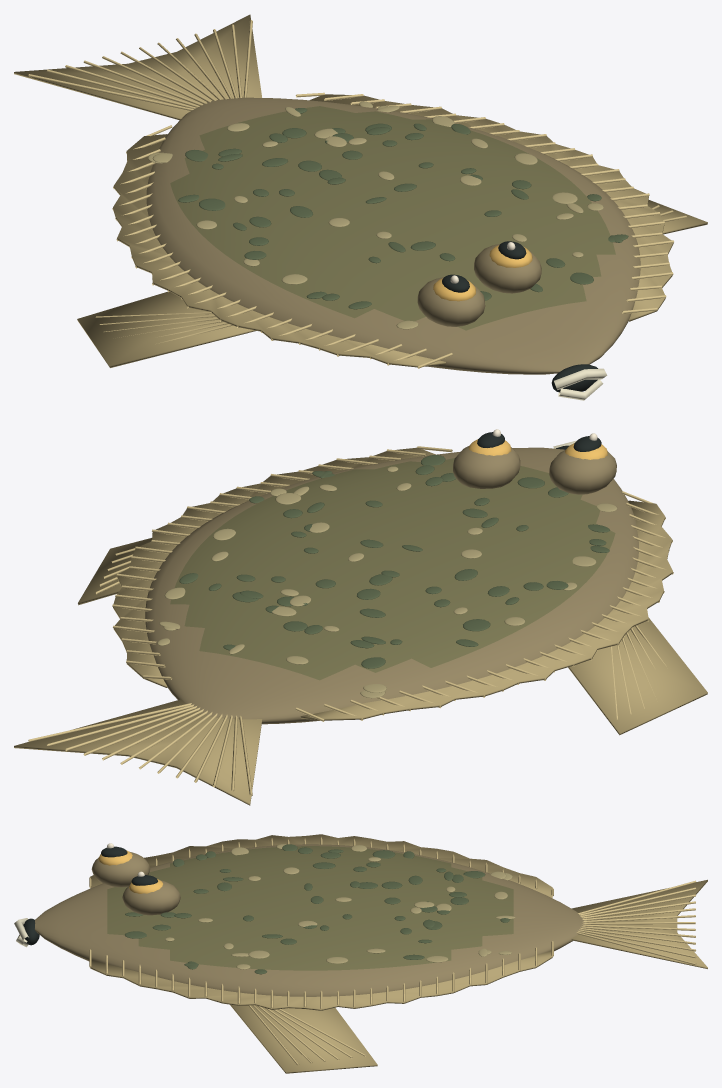
File: BanquetHirame.fbx
3 views of the same model, one above another, from view 1: azimuth 30°, elevation 25°; view 2: azimuth 150°, elevation 25°; view 3: azimuth 270°, elevation 25° (orthographic). The views are drawn at different scales.
Parts seen in each view (by area): view 1: Sculpted body mesh, Tail mesh, FinLeft mesh, FinRight mesh; view 2: Sculpted body mesh, Tail mesh, FinLeft mesh, FinRight mesh; view 3: Sculpted body mesh, Tail mesh, FinRight mesh.
Part boxes in pixels (bbox=[...]): Sculpted body mesh: bbox=[112, 92, 673, 400]; Tail mesh: bbox=[14, 14, 261, 120]; FinLeft mesh: bbox=[77, 291, 256, 367]; FinRight mesh: bbox=[647, 200, 707, 234]; Sculpted body mesh: bbox=[112, 429, 673, 724]; Tail mesh: bbox=[14, 699, 262, 805]; FinLeft mesh: bbox=[568, 617, 707, 735]; FinRight mesh: bbox=[78, 538, 152, 605]; Sculpted body mesh: bbox=[14, 834, 585, 1010]; Tail mesh: bbox=[571, 879, 707, 968]; FinRight mesh: bbox=[230, 1004, 377, 1073].
Size of the model in its own units: 86.08 by 17.39 by 113.
